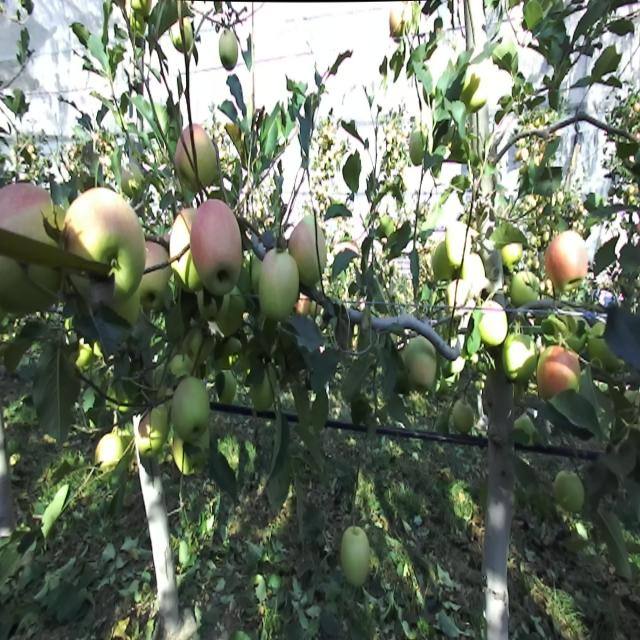apple: (63, 188, 144, 298), (0, 187, 61, 307), (193, 199, 242, 297), (176, 121, 217, 190), (260, 248, 298, 316), (139, 241, 173, 314), (173, 377, 211, 442), (547, 233, 588, 289), (538, 347, 581, 400), (170, 214, 198, 288), (293, 220, 328, 279), (406, 334, 436, 390), (342, 525, 368, 589), (552, 470, 588, 516), (504, 332, 536, 379), (138, 410, 165, 456), (462, 66, 490, 108), (220, 290, 245, 336), (97, 432, 124, 474), (590, 322, 616, 363), (252, 365, 274, 411), (446, 220, 468, 265), (481, 304, 506, 343), (462, 255, 487, 294), (512, 271, 539, 306), (447, 278, 473, 314), (175, 443, 204, 475), (198, 294, 230, 322), (432, 240, 455, 276), (220, 27, 238, 71), (391, 4, 412, 39), (170, 19, 192, 52), (216, 370, 236, 406), (410, 128, 431, 162), (187, 330, 210, 360), (454, 401, 474, 433), (169, 357, 199, 378), (501, 241, 523, 267), (525, 1, 544, 30), (131, 14, 147, 34), (132, 0, 152, 14)
